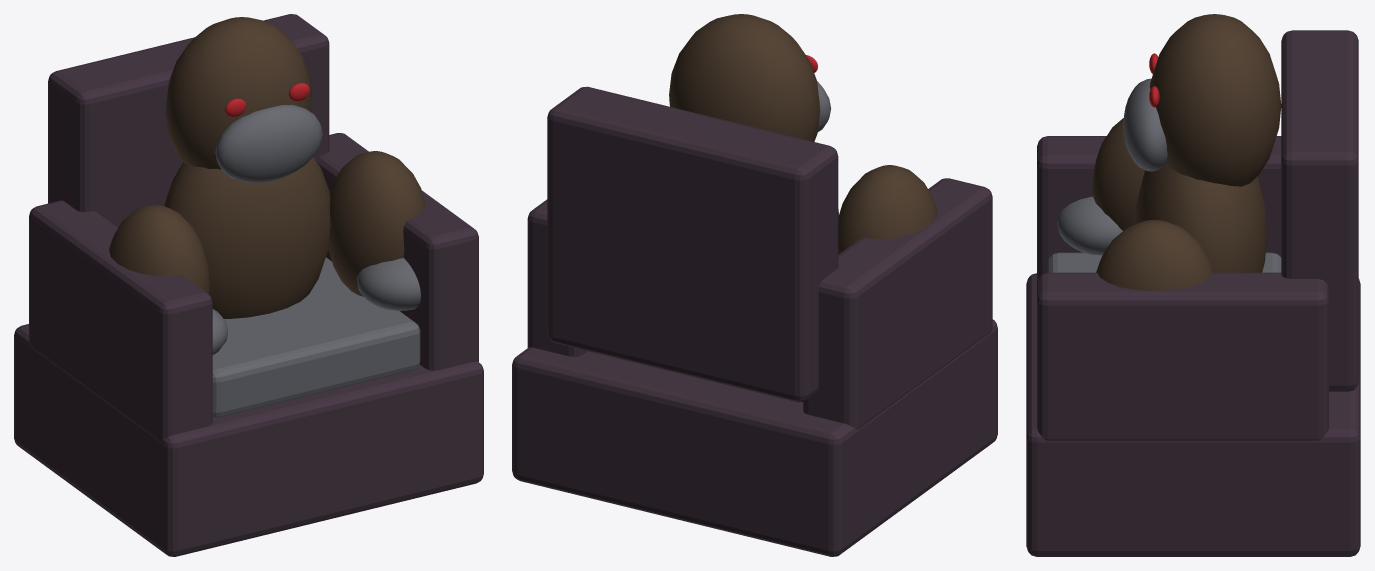
Rendered from hiperreal-hd.glb.
3 views of the same model, side by side, from view 1: azimuth 30°, elevation 25°; view 2: azimuth 150°, elevation 25°; view 3: azimuth 270°, elevation 25° (orthographic). The views are drawn at different scales.
Visible parts, largest first — view 1: Armchair base, Armrest, Backrest, Seat, Gorilla chest, Gorilla head, Armrest.001, Gorilla arm.001, Gorilla muzzle, Gorilla arm, Hand.001; view 2: Backrest, Armchair base, Armrest, Gorilla head, Gorilla arm, Armrest.001; view 3: Armrest.001, Armchair base, Backrest, Gorilla head, Gorilla chest, Armrest, Gorilla arm.001, Gorilla arm, Gorilla muzzle, Hand, Seat.
Boxes of the visible parts, left/top/right/bottom form: Armchair base: left=14, top=324, right=483, bottom=556; Armrest: left=29, top=200, right=212, bottom=440; Backrest: left=48, top=14, right=329, bottom=227; Seat: left=212, top=257, right=420, bottom=417; Gorilla chest: left=164, top=157, right=330, bottom=318; Gorilla head: left=166, top=17, right=311, bottom=169; Armrest.001: left=316, top=133, right=478, bottom=370; Gorilla arm.001: left=328, top=151, right=425, bottom=296; Gorilla muzzle: left=215, top=104, right=322, bottom=182; Gorilla arm: left=109, top=204, right=210, bottom=294; Hand.001: left=357, top=258, right=420, bottom=310; Backrest: left=547, top=86, right=838, bottom=402; Armchair base: left=512, top=319, right=997, bottom=556; Armrest: left=803, top=178, right=992, bottom=429; Gorilla head: left=669, top=14, right=820, bottom=141; Gorilla arm: left=838, top=165, right=937, bottom=254; Armrest.001: left=527, top=199, right=587, bottom=356; Armrest.001: left=1037, top=272, right=1328, bottom=440; Armchair base: left=1026, top=273, right=1360, bottom=556; Backrest: left=1281, top=30, right=1358, bottom=391; Gorilla head: left=1149, top=14, right=1281, bottom=186; Gorilla chest: left=1134, top=165, right=1267, bottom=272; Armrest: left=1037, top=136, right=1281, bottom=282; Gorilla arm.001: left=1096, top=219, right=1213, bottom=291; Gorilla arm: left=1092, top=118, right=1144, bottom=230; Gorilla muzzle: left=1123, top=78, right=1167, bottom=171; Hand: left=1057, top=196, right=1122, bottom=255; Seat: left=1047, top=252, right=1281, bottom=272.
Bounding box in the file's own units: 1 × 1.31 × 0.8636.
